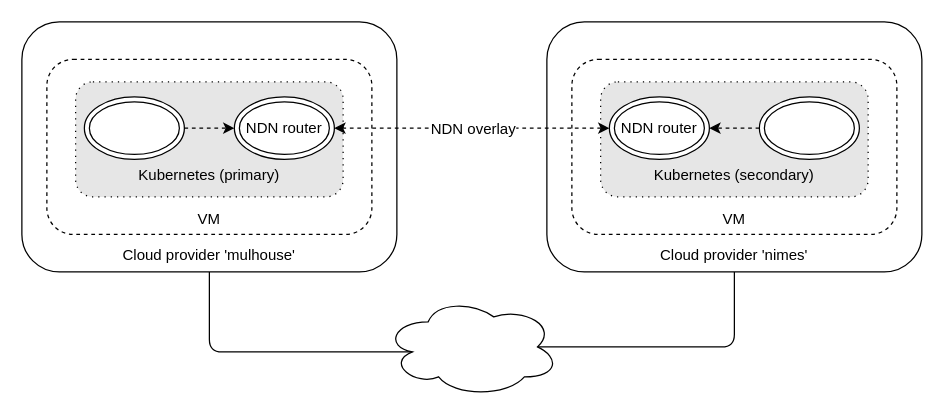
Some shapes in this 944 by 419 pixel diagram are drawn without their labels. Each missing label, with the centre of its shape:
"Internet (TCP/IP underlay)" belongs at (471,346).
"NDN consumer" belongs at (808,127).
"NDN producer" belongs at (133,127).
